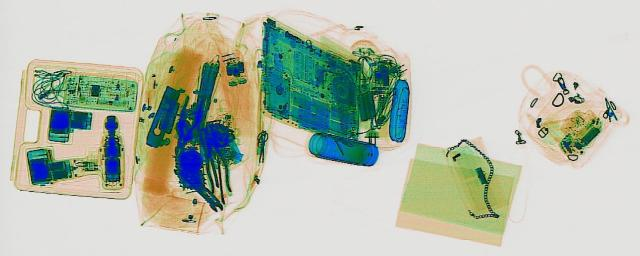Pliers: (196, 125, 234, 191)
Wrench: (182, 175, 228, 210)
